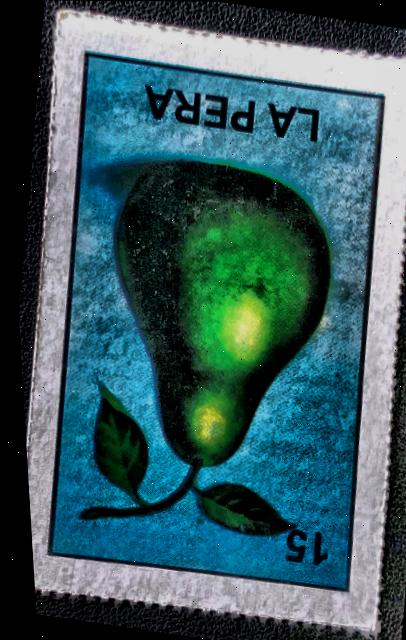La Pera: (1, 25, 406, 613)
